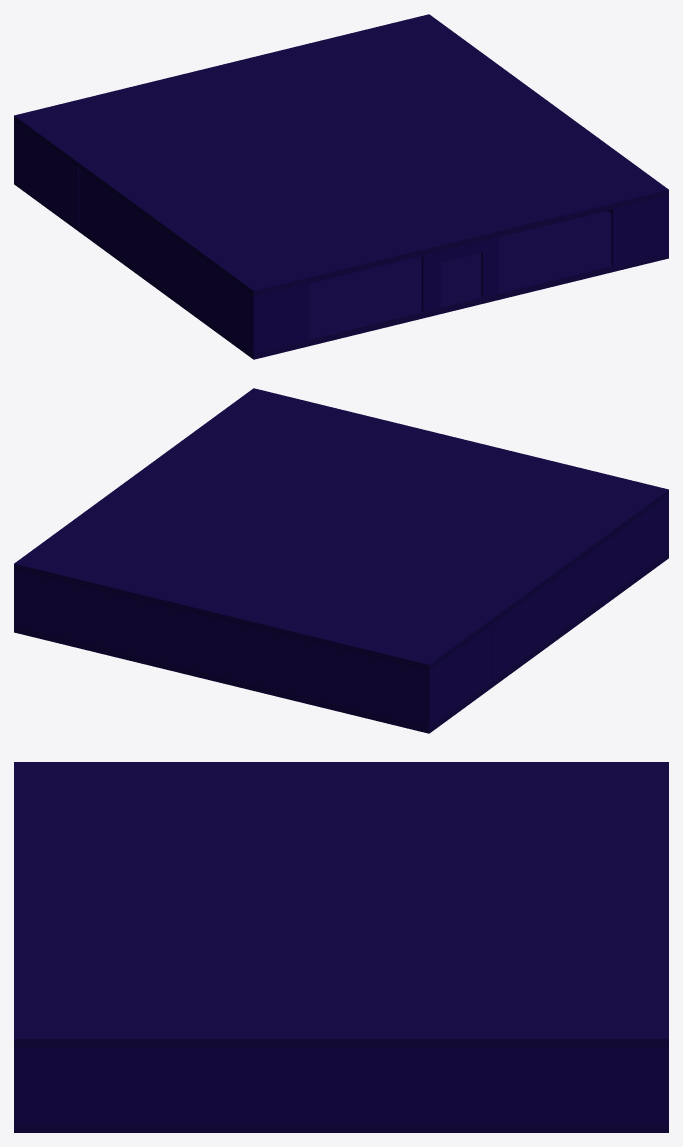
The model's file is store.fbx.
3 renders of one model, top to bottom at view 1: azimuth 30°, elevation 25°; view 2: azimuth 150°, elevation 25°; view 3: azimuth 270°, elevation 25°, orthographic. The views are drawn at different scales.
Parts seen in each view (by area): view 1: Ceiling, Floor, Wall Left, Wall Front R, Wall Front L, Wall Front D -mc; view 2: Ceiling, Wall Back, Wall Left, Floor; view 3: Ceiling, Wall Right, Floor.
Part boxes in pixels (x1,y1,x2,y2): Ceiling: (14,14,668,296); Floor: (14,181,668,359); Wall Left: (14,123,256,355); Wall Front R: (611,195,668,268); Wall Front L: (252,283,309,354); Wall Front D -mc: (421,237,499,311); Ceiling: (14,388,668,670); Wall Back: (14,570,430,730); Wall Left: (426,497,667,728); Floor: (14,552,668,733); Ceiling: (14,762,668,1047); Wall Right: (18,1047,664,1123); Floor: (14,1124,668,1132).
Bounding box in the file's own units: 13892 × 2196 × 13869.
